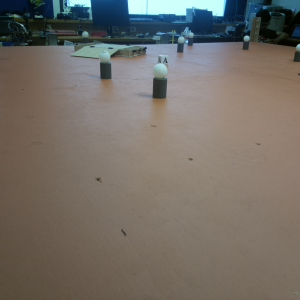obstacle: (150, 65, 172, 98), (98, 53, 113, 83), (176, 37, 187, 54), (292, 42, 300, 64), (242, 35, 251, 51), (188, 32, 196, 48)
side: (125, 46, 151, 57)
slope: (79, 45, 118, 52)
